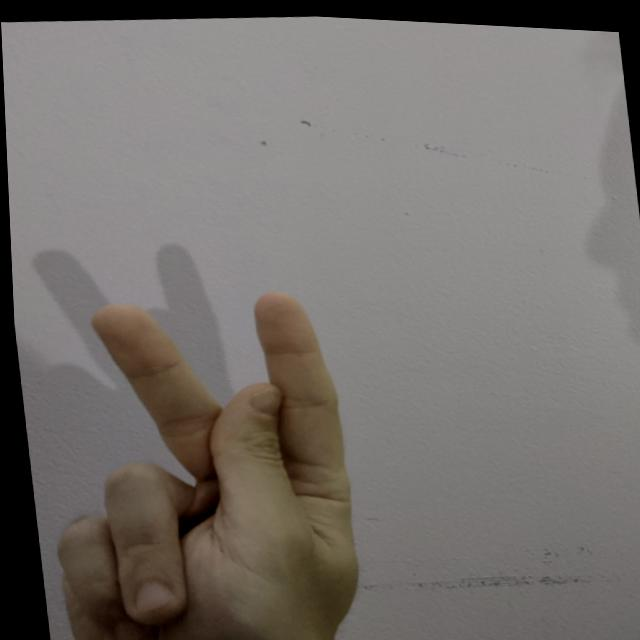K: (16, 266, 379, 639)
